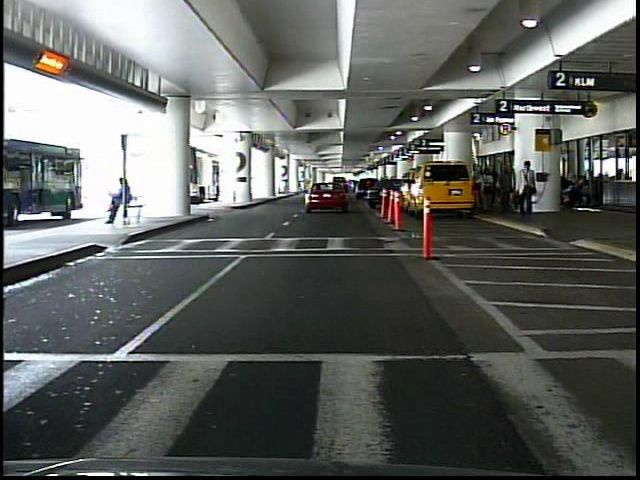person: (516, 160, 539, 217), (497, 163, 514, 218), (481, 165, 495, 210)
